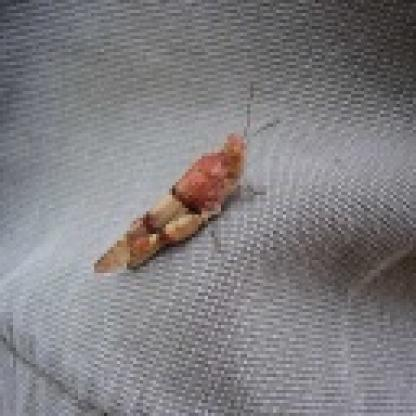grasshopper: (95, 88, 280, 270)
